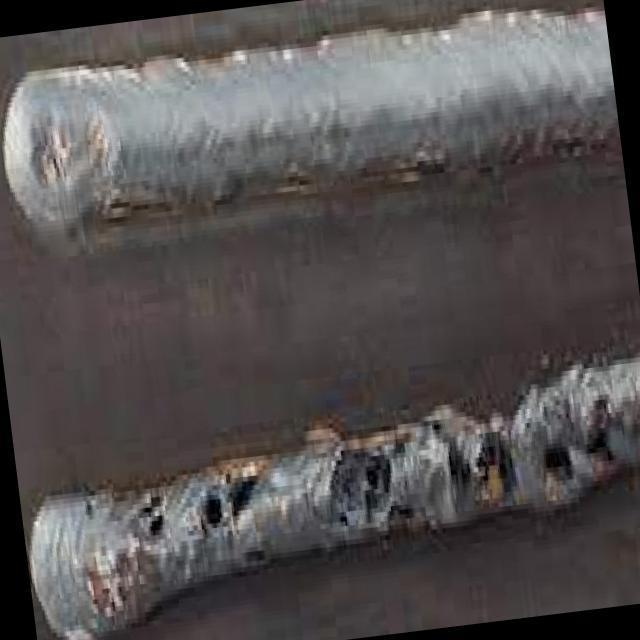defect: (193, 469, 264, 539), (445, 426, 514, 490), (360, 449, 397, 542), (580, 386, 617, 468), (541, 431, 577, 484), (331, 467, 357, 535), (138, 488, 166, 544), (425, 410, 446, 435), (81, 491, 94, 520), (633, 372, 640, 403)
